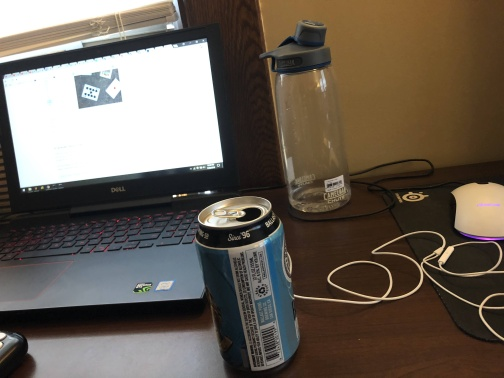can: (194, 192, 303, 376)
